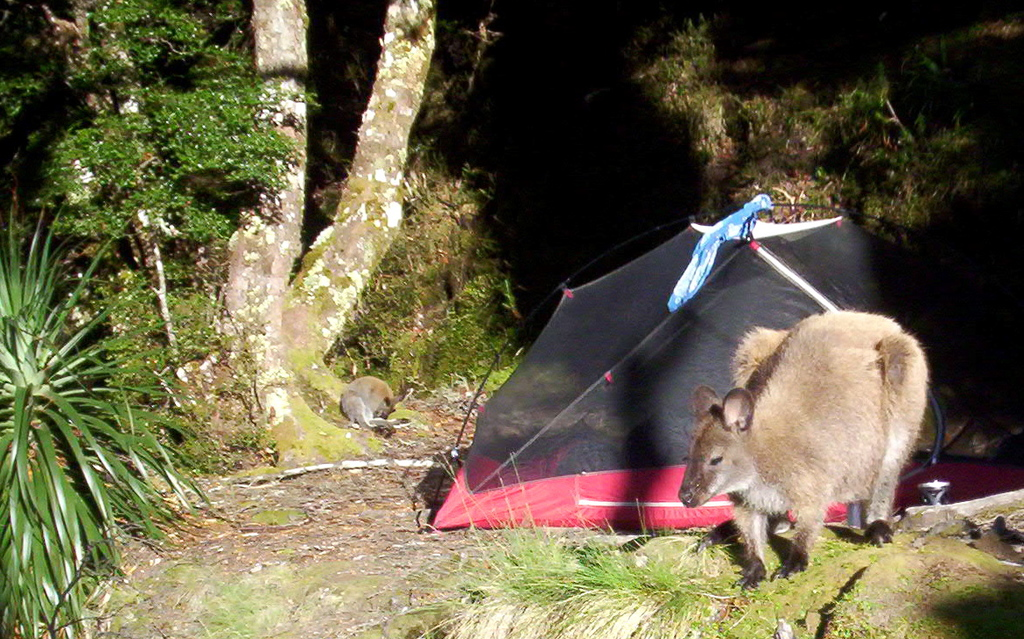kangaroo: (673, 297, 932, 590)
